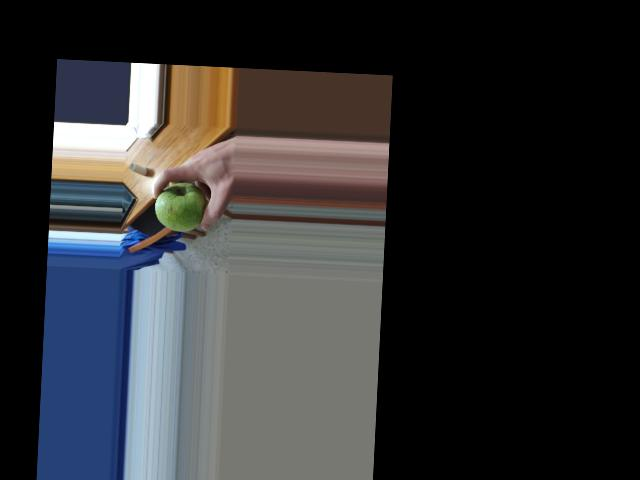apple: (151, 180, 209, 233)
